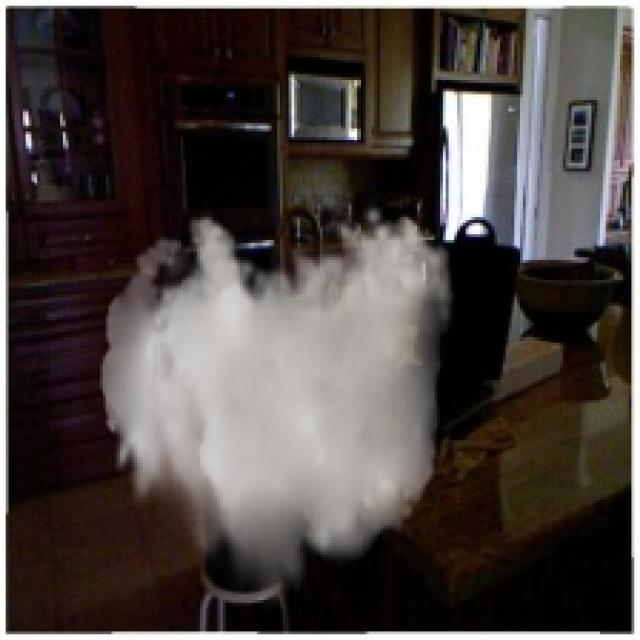smoke: (100, 200, 454, 614)
